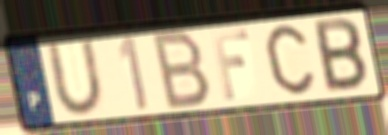1: (116, 33, 150, 113)
B: (151, 27, 214, 112), (310, 15, 370, 96)
C: (262, 22, 317, 98)
F: (208, 26, 252, 103)
U: (43, 37, 109, 118)
